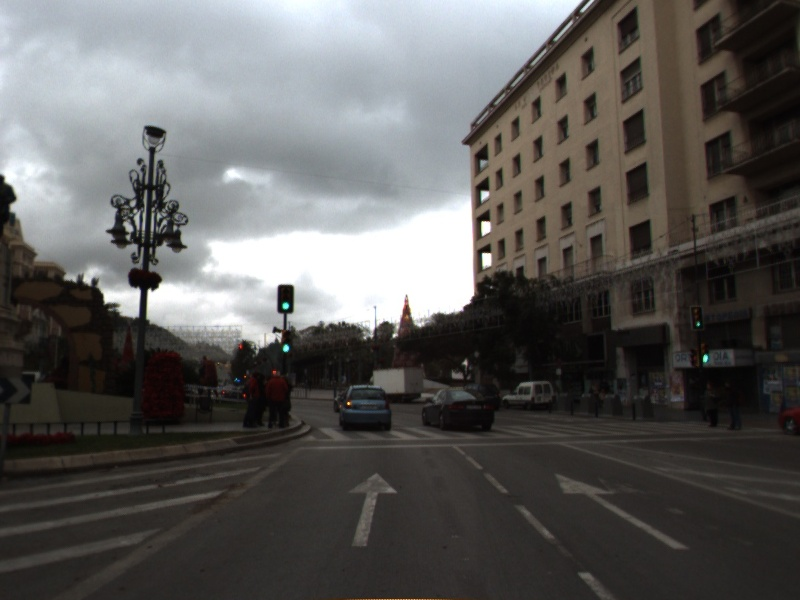STRAIGHT: (552, 471, 692, 553), (346, 470, 401, 548)
